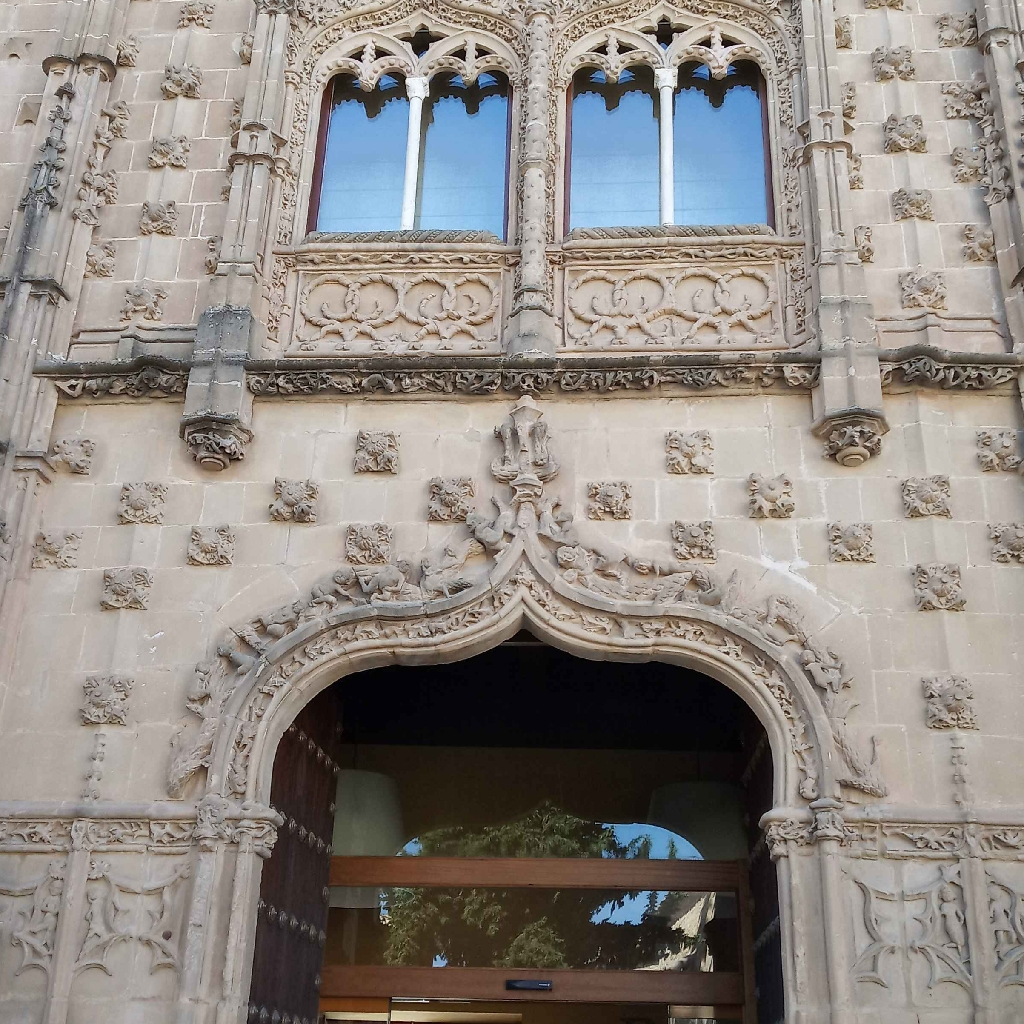arco-conopial: (212, 518, 810, 734), (297, 1, 520, 79), (559, 1, 787, 76)
